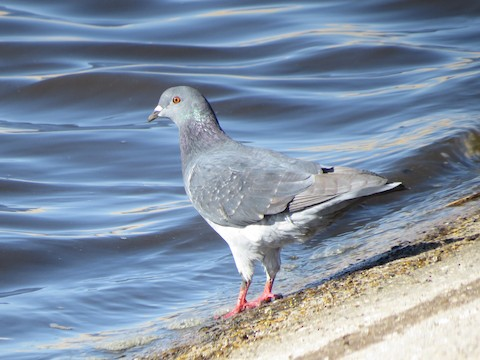pigeon: (146, 78, 414, 327)
